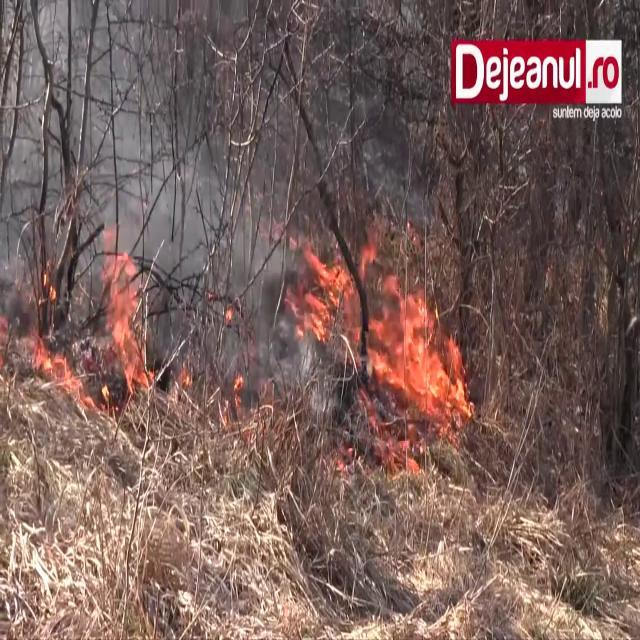Fire: (292, 222, 470, 426), (1, 217, 150, 407), (100, 231, 148, 397)
